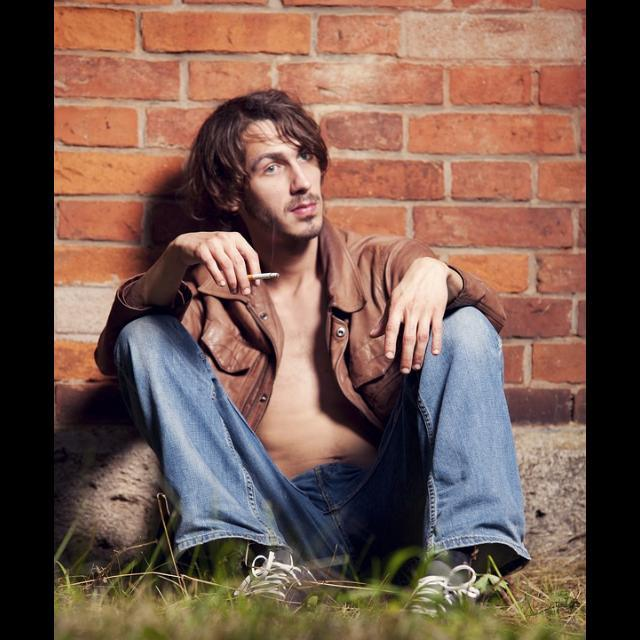rokok: (244, 266, 282, 284)
